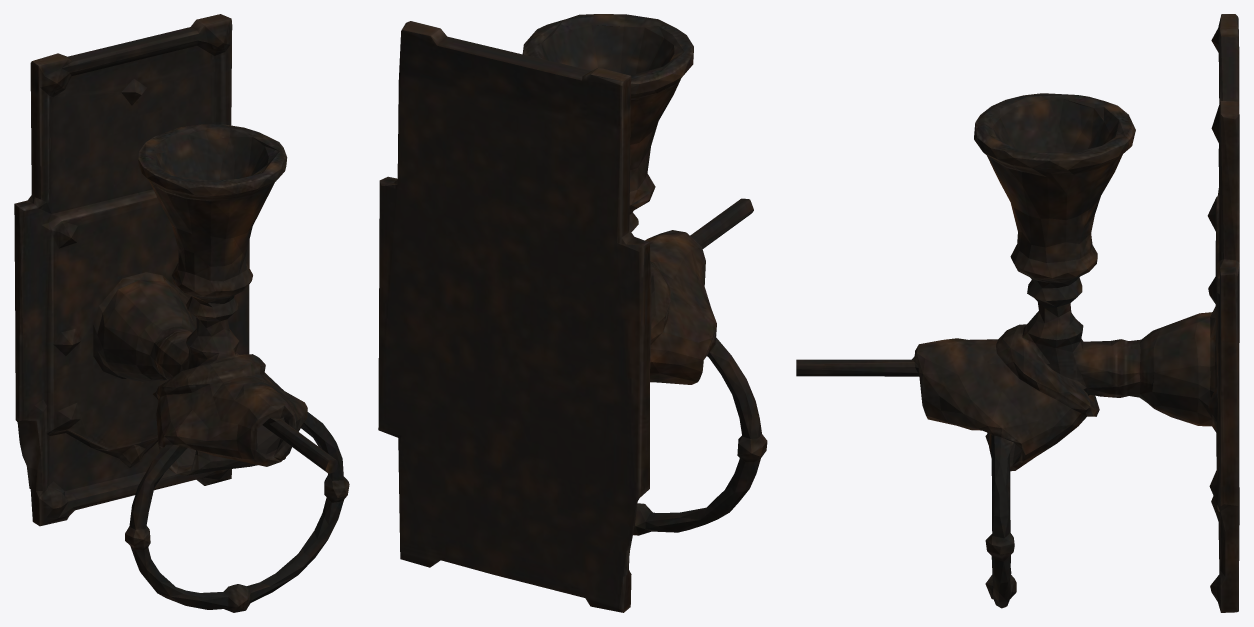
Rendered from sconce.glb.
3 renders of one model, left to right at view 1: azimuth 30°, elevation 25°; view 2: azimuth 150°, elevation 25°; view 3: azimuth 270°, elevation 25°, orthographic. The views are drawn at different scales.
Visible parts, largest first — view 1: lo; view 2: lo; view 3: lo.
Boxes of the visible parts, x1,y1,x2,y2 form: lo: (14,14,349,612); lo: (378,14,767,612); lo: (796,14,1239,612).
Size of the model in its own units: 0.2659 by 0.5475 by 0.4118.
Materials: 1 (1 with a texture image).
